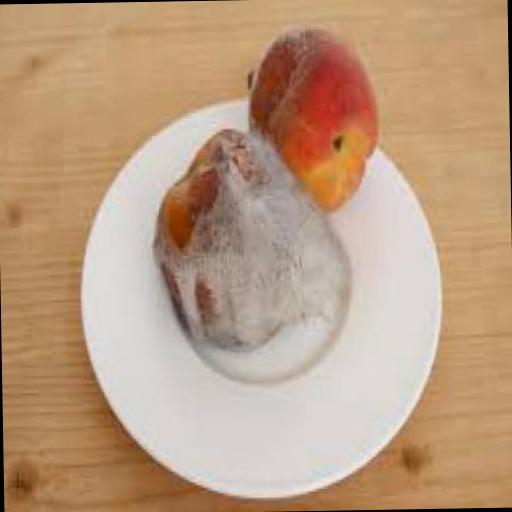biodegradable: (153, 124, 344, 351), (247, 20, 381, 207)
